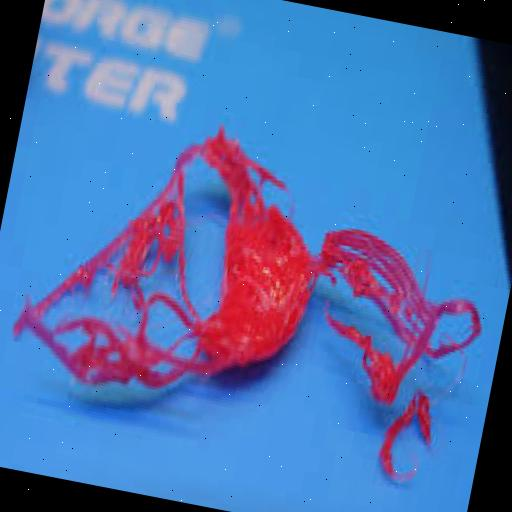spaghetti: (126, 288, 240, 406)
